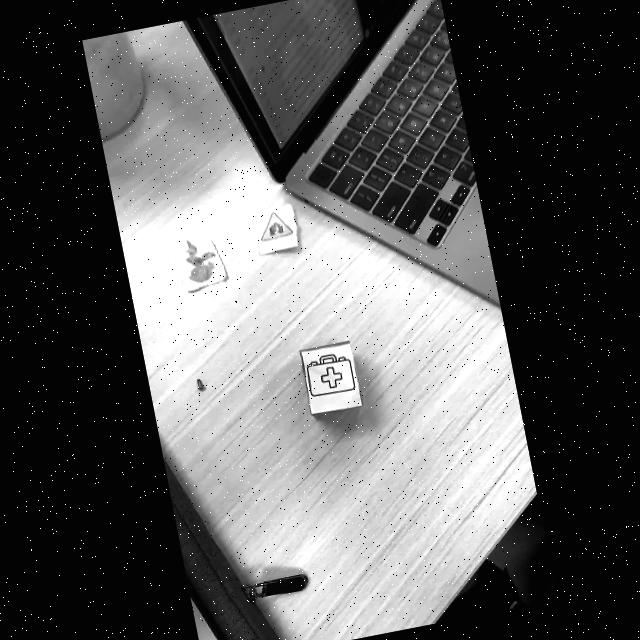Medkit: (306, 352, 356, 398)
